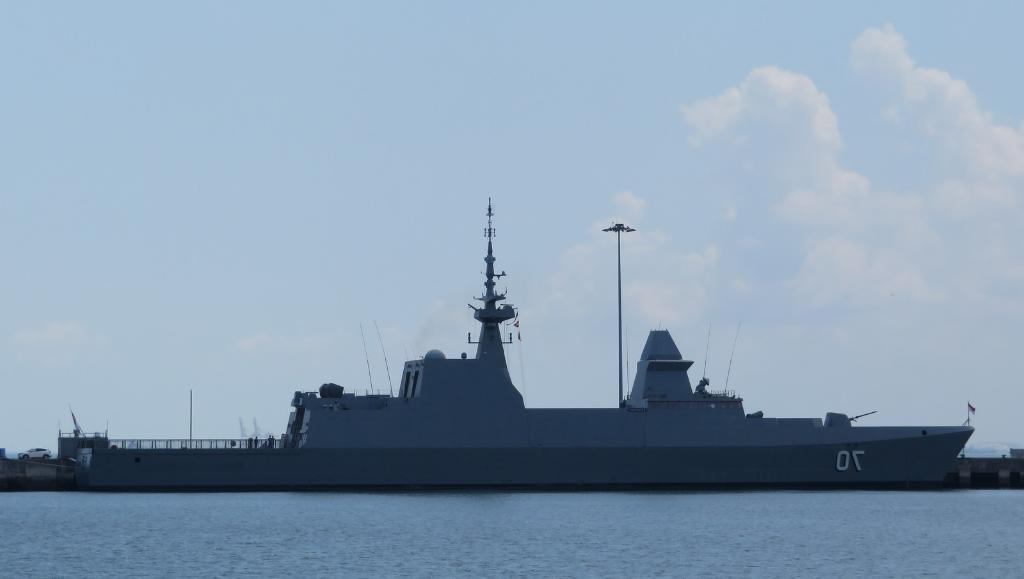Warship: (55, 194, 973, 492)
